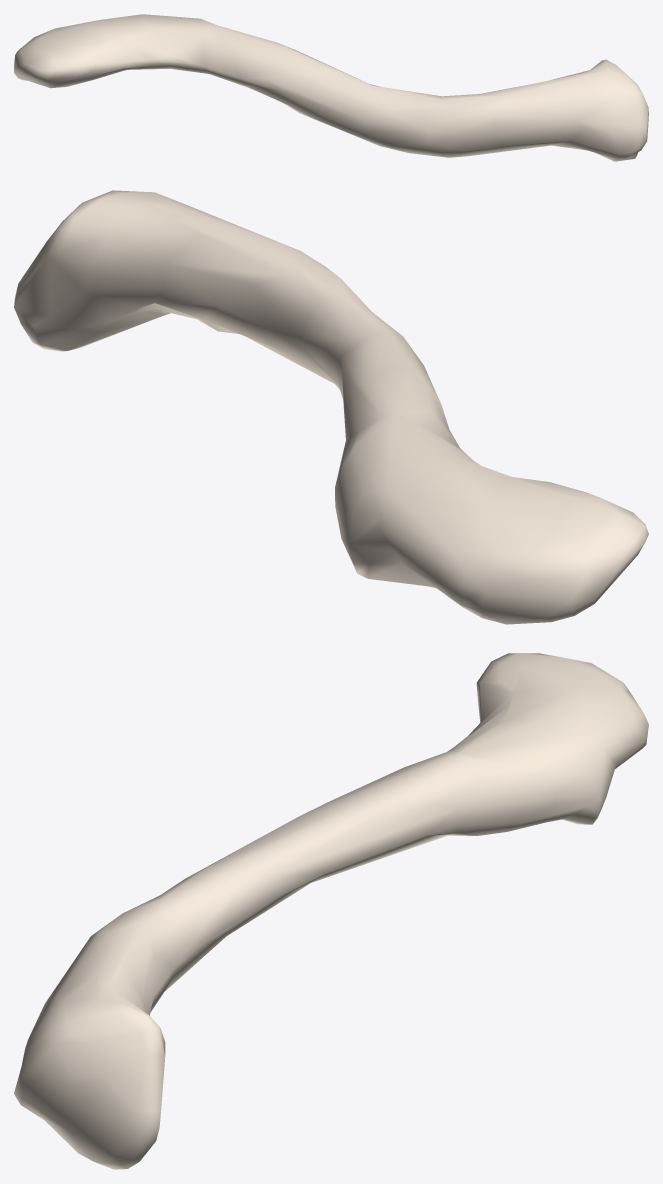
File: right_clavicle.glb
3 renders of one model, top to bottom at view 1: azimuth 30°, elevation 25°; view 2: azimuth 150°, elevation 25°; view 3: azimuth 270°, elevation 25°, orthographic. The views are drawn at different scales.
Parts seen in each view (by area): view 1: Clavicle.r; view 2: Clavicle.r; view 3: Clavicle.r.
Part boxes in pixels (box(x1,y1,x2,y2)): Clavicle.r: box(14, 14, 648, 161); Clavicle.r: box(14, 190, 648, 624); Clavicle.r: box(14, 653, 648, 1169).
Size of the model in its own units: 0.1397 by 0.0327 by 0.1015.
